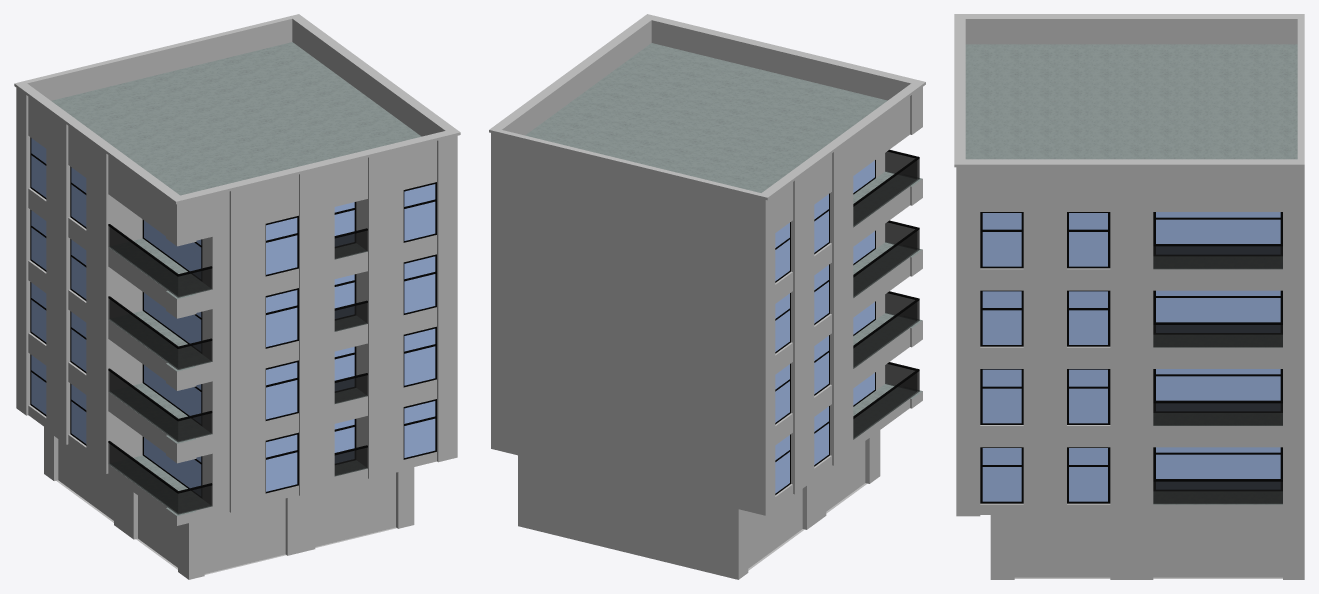
The model's file is Build_double_corner.fbx.
The picture shows the model from 3 angles, left to right: view 1: azimuth 30°, elevation 25°; view 2: azimuth 150°, elevation 25°; view 3: azimuth 270°, elevation 25°; orthographic projection. The views are drawn at different scales.
Parts seen in each view (by area): view 1: part_double_corner; view 2: part_double_corner; view 3: part_double_corner.
Boxes of the visible parts, x1,y1,x2,y2 form: part_double_corner: [14, 14, 460, 579]; part_double_corner: [489, 14, 925, 579]; part_double_corner: [954, 14, 1304, 579].
Bounding box in the file's own units: 412 × 550 × 405.
